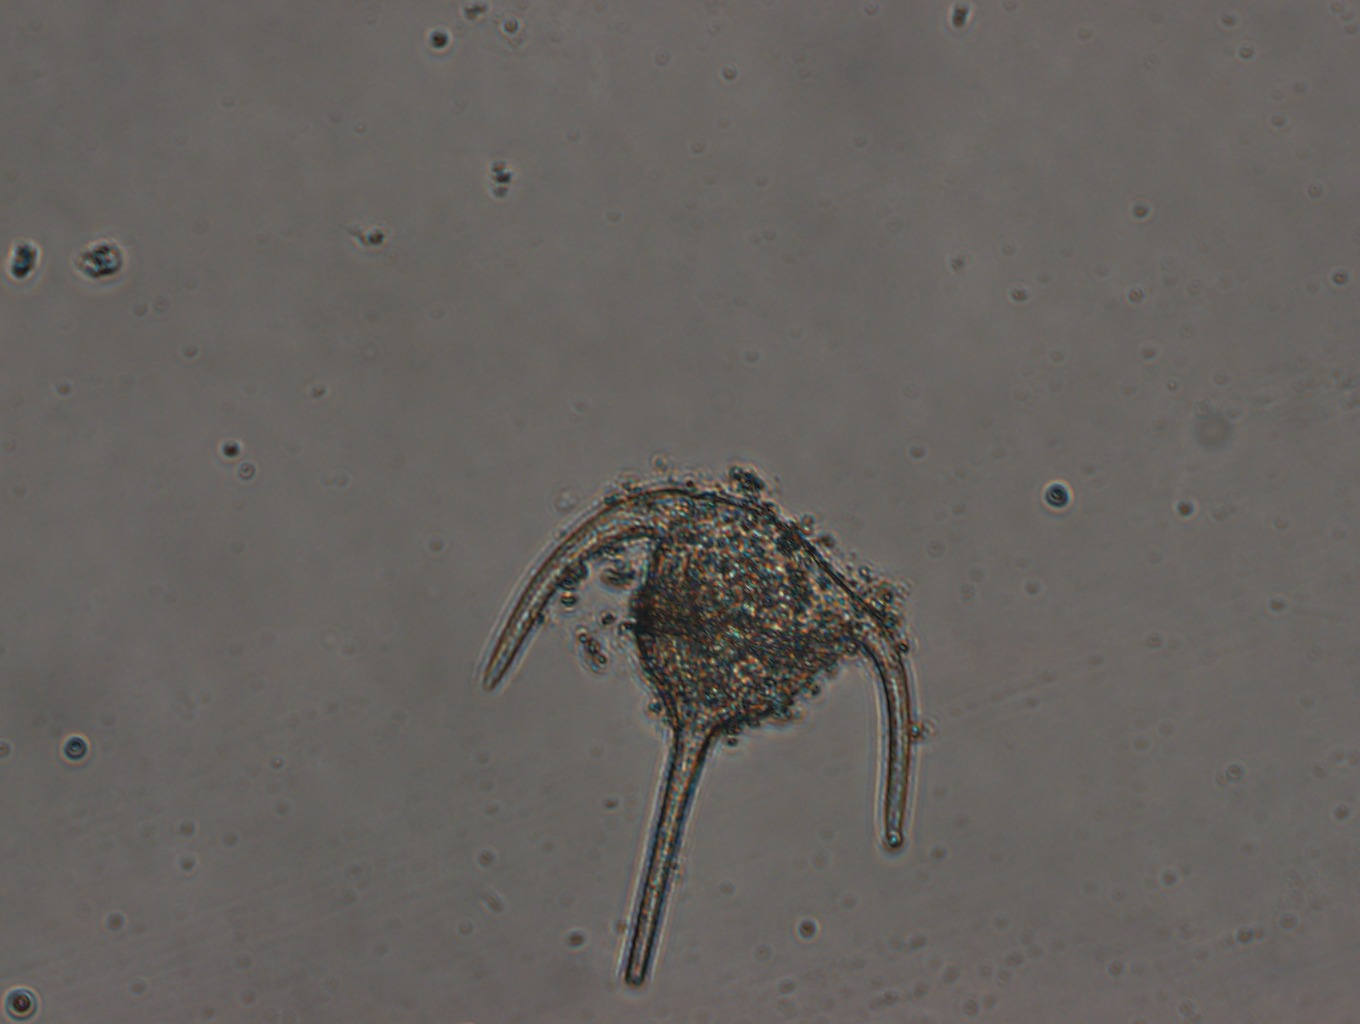ceratium tripos: (479, 475, 917, 990)
